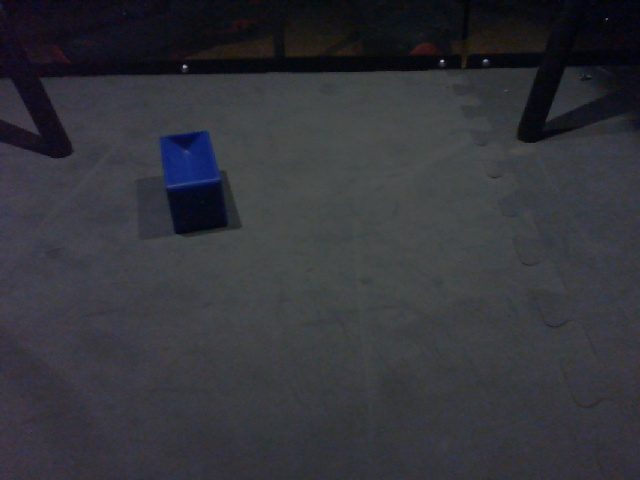BlueSample: (156, 128, 229, 234)
